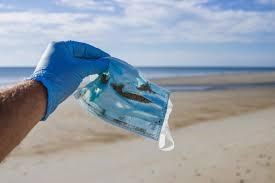Glove: (30, 41, 109, 119)
Mask: (75, 57, 173, 150)
